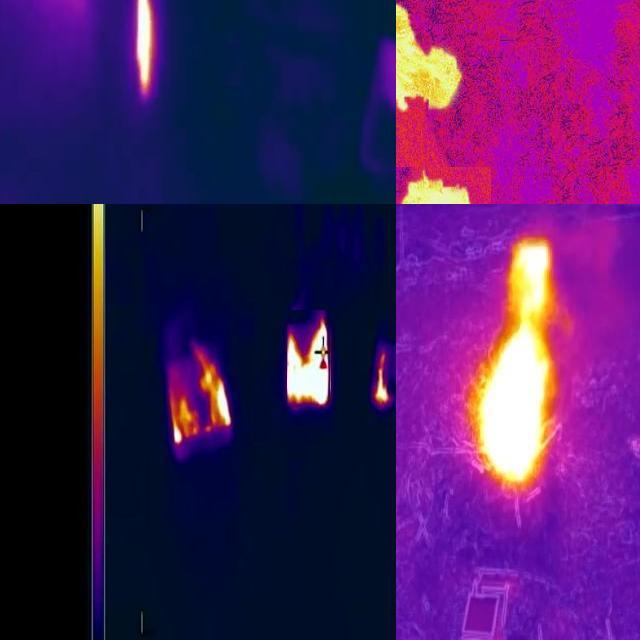fire: (476, 237, 556, 491), (395, 1, 461, 117), (288, 311, 331, 408), (197, 347, 232, 433), (133, 1, 159, 99), (168, 375, 201, 451), (400, 172, 473, 205), (372, 345, 392, 409)
